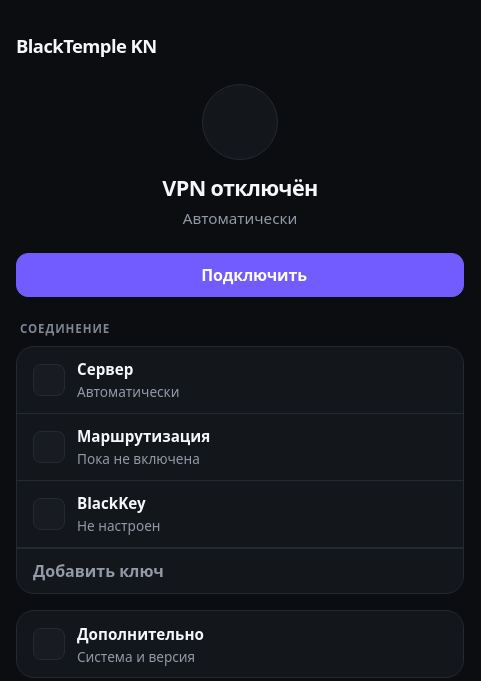
Test: BlackKey import › shows an error when adding an empty key
This screenshot has width=481, height=681.
Click the heading "Добавить ключ" at point(98, 571), box x1=33 y1=560 x2=164 y2=582
(page scrolled)
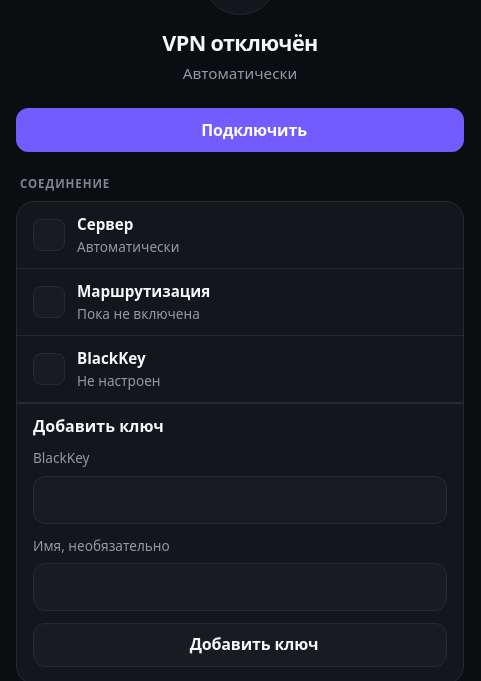
Click the button "Добавить ключ" at point(240, 645), box x1=33 y1=623 x2=447 y2=667
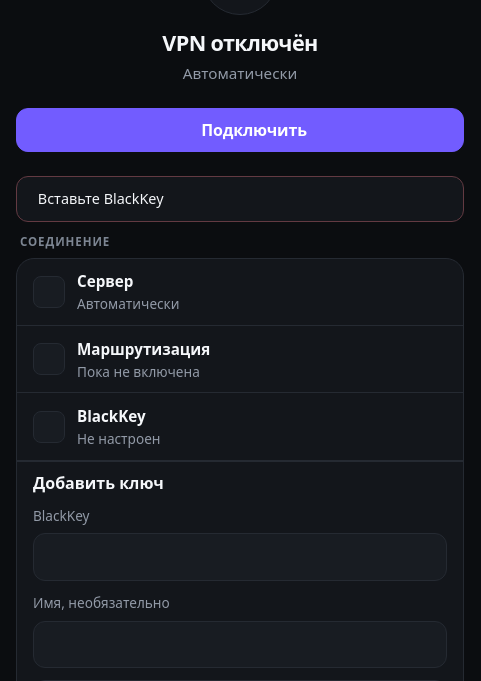
Expected: the text "Вставьте BlackKey" is shown, x1=38 y1=188 x2=164 y2=209
